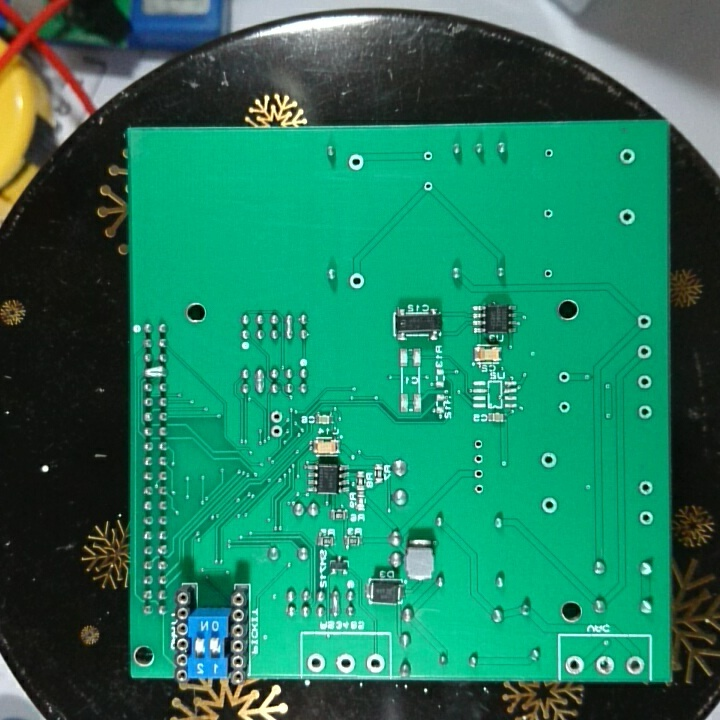F: (616, 147, 639, 172), (364, 652, 387, 676), (593, 653, 616, 676), (539, 448, 561, 472), (336, 651, 358, 675), (305, 653, 328, 675), (623, 654, 646, 675), (562, 652, 587, 671), (540, 495, 561, 516), (635, 309, 654, 332), (636, 401, 655, 424), (347, 271, 375, 286), (636, 510, 656, 531), (617, 206, 641, 223), (636, 478, 656, 498), (348, 152, 365, 175), (556, 367, 572, 391), (635, 371, 653, 390), (556, 399, 574, 418), (637, 343, 654, 363), (539, 205, 556, 223), (269, 409, 287, 426), (471, 466, 490, 482), (541, 263, 558, 280), (268, 425, 285, 442), (542, 144, 556, 164), (472, 482, 489, 498), (471, 451, 489, 466), (421, 180, 437, 195), (421, 149, 436, 164), (472, 437, 488, 451)
P: (143, 365, 173, 382), (253, 366, 267, 397), (283, 312, 296, 340), (330, 589, 343, 617)
